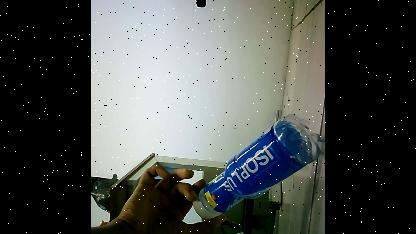Plastic Bottle: (186, 100, 322, 232)
